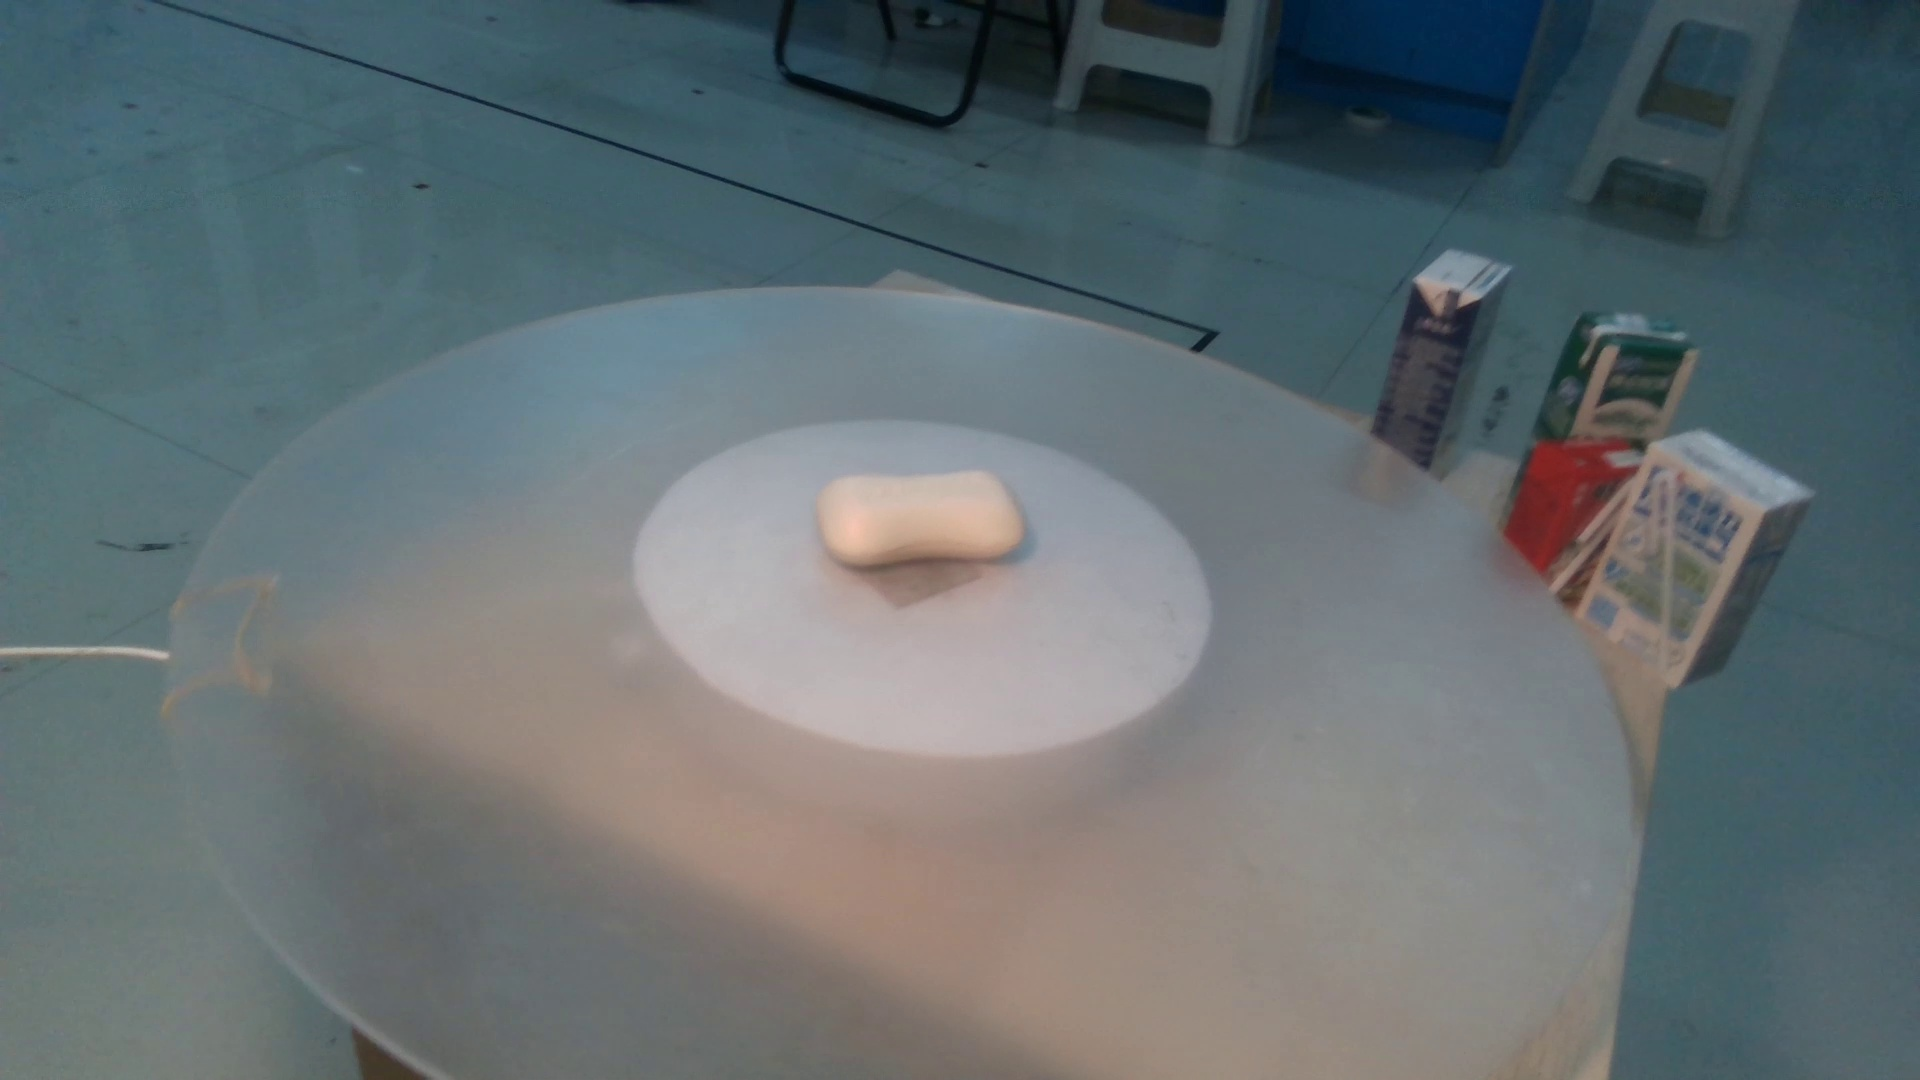CA003_1: (793, 429, 1060, 615)
